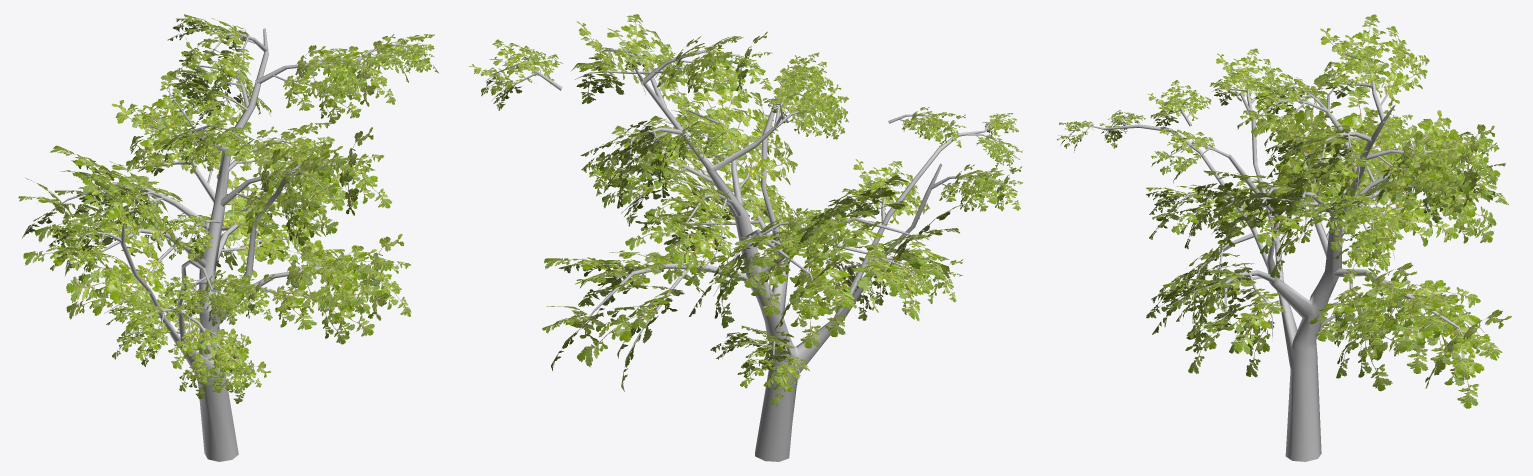
The model's file is small.fbx.
3 renders of one model, left to right at view 1: azimuth 30°, elevation 25°; view 2: azimuth 150°, elevation 25°; view 3: azimuth 270°, elevation 25°, orthographic. The views are drawn at different scales.
Visible parts, largest first — view 1: tree small joined; view 2: tree small joined; view 3: tree small joined.
Part boxes in pixels (box(x1,y1,x2,y2)): tree small joined: box(18, 14, 438, 461); tree small joined: box(469, 14, 1022, 461); tree small joined: box(1057, 14, 1511, 461).
Size of the model in its own units: 498 by 440 by 420.
